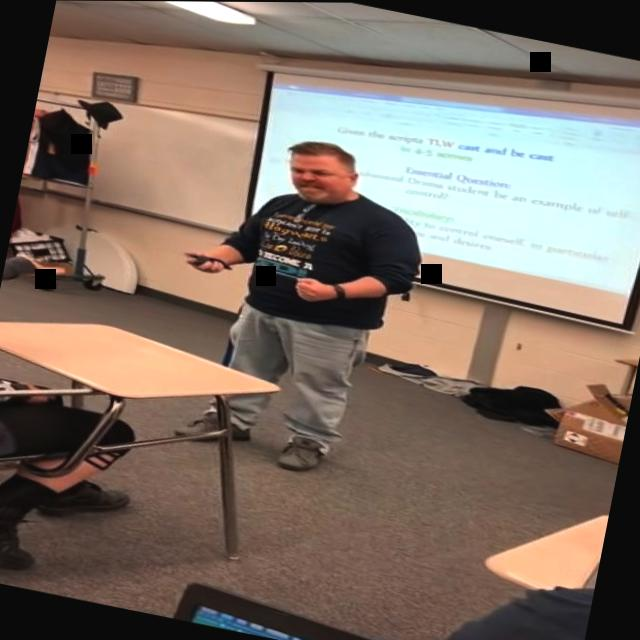NO-Mask: (283, 144, 360, 204)
